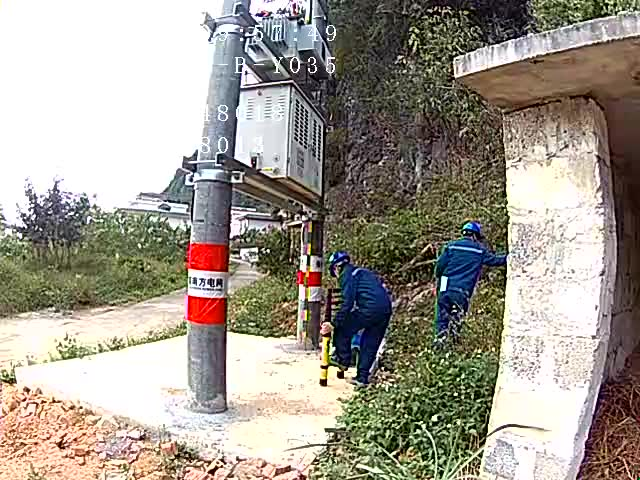downsuit: (338, 313, 390, 377), (436, 291, 471, 334)
halt: (331, 251, 352, 277), (459, 221, 482, 239)
hand: (320, 320, 334, 336)
person: (327, 251, 395, 388), (433, 220, 505, 339)
upsuit: (439, 239, 498, 291), (339, 267, 391, 313)
